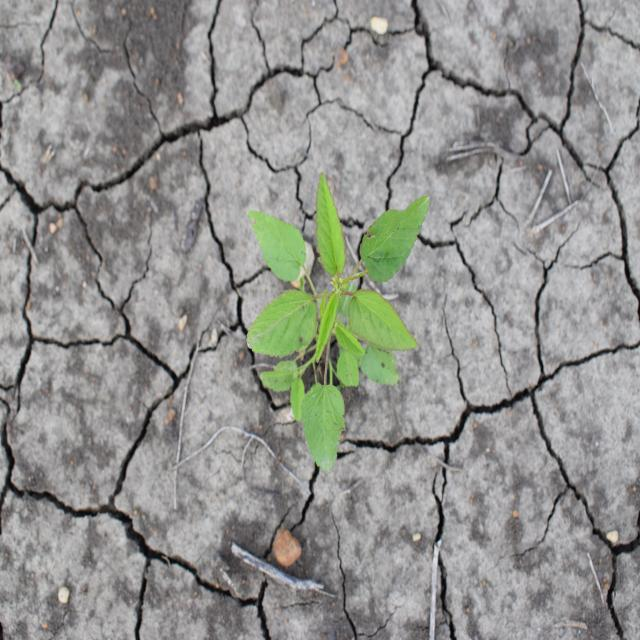PricklySida: (245, 170, 432, 476)
